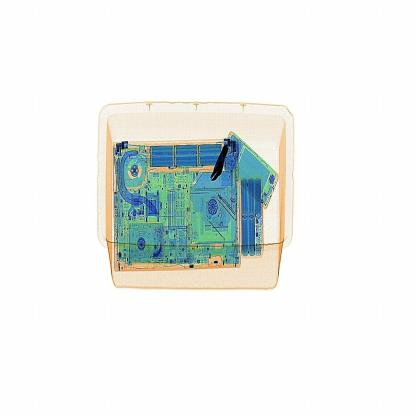knife: (211, 142, 229, 185)
